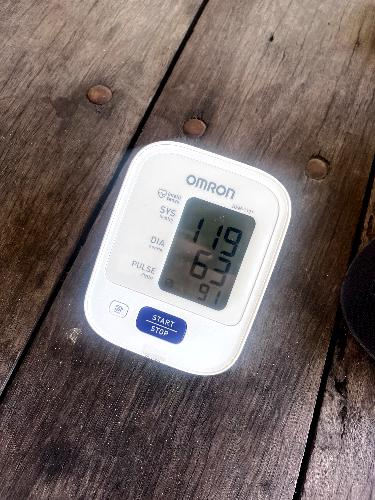bpm: (153, 194, 258, 314)
